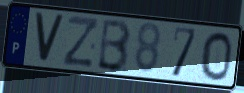7: (172, 25, 198, 80)
8: (132, 21, 165, 77)
B: (95, 18, 133, 74)
O: (200, 30, 234, 83)
V: (33, 10, 66, 66)
Z: (62, 13, 101, 69)
